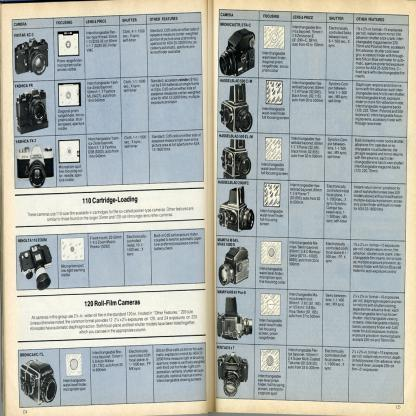Camera: (218, 186, 256, 233), (12, 34, 54, 76), (219, 296, 255, 343), (220, 29, 255, 77), (21, 360, 58, 405), (221, 85, 254, 134), (18, 88, 49, 136), (19, 148, 55, 189), (22, 242, 54, 288), (218, 354, 249, 396), (219, 246, 250, 287), (222, 142, 252, 179)
